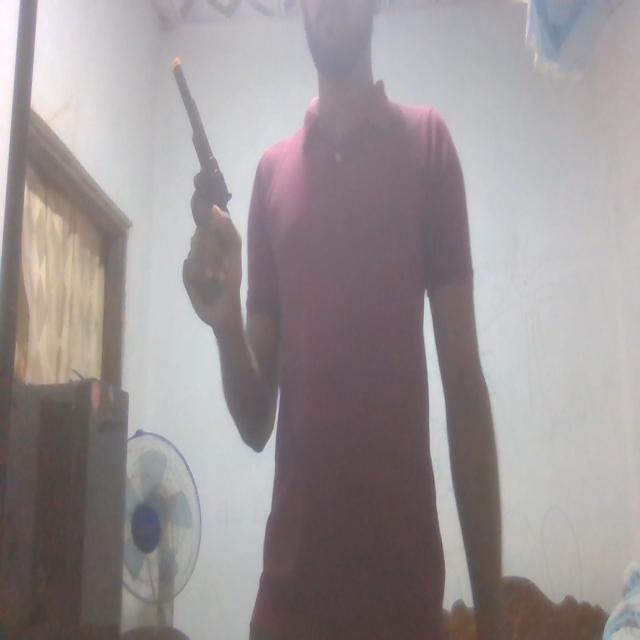Gun_Holder: (162, 56, 238, 292)
Person: (191, 0, 503, 640)
